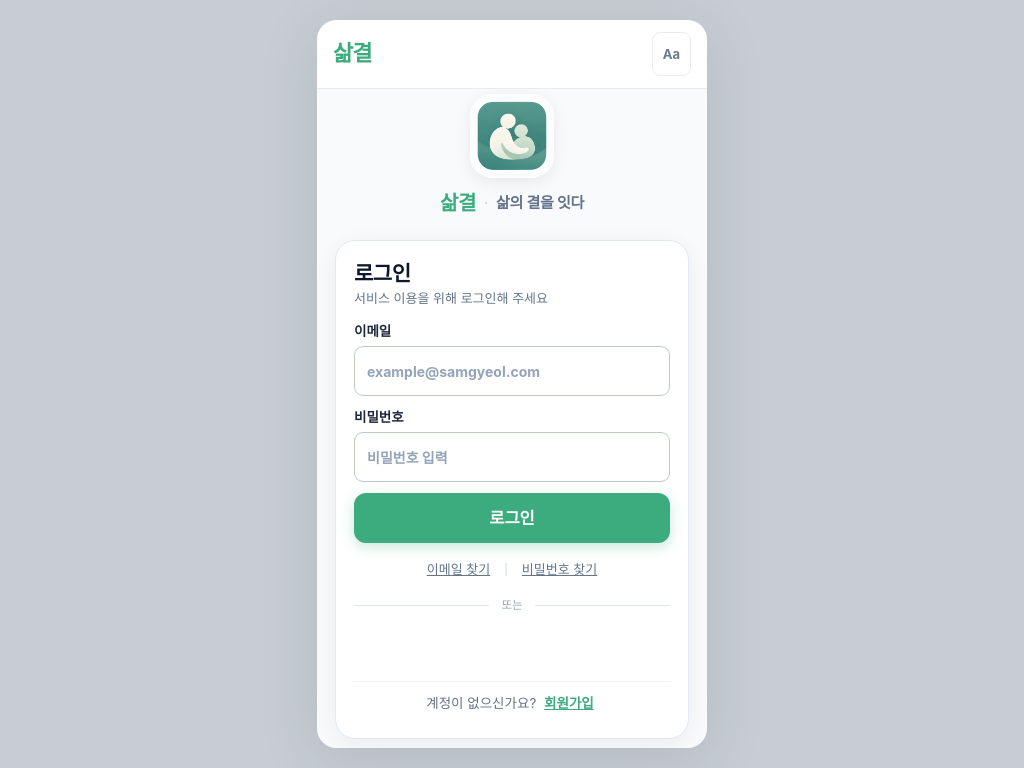
Test: 비밀번호 재설정 탭에서 정보를 입력하여 비밀번호를 재설정한다
Step 1. Click the button "비밀번호 찾기" → (560, 570), box [518,556,601,584]
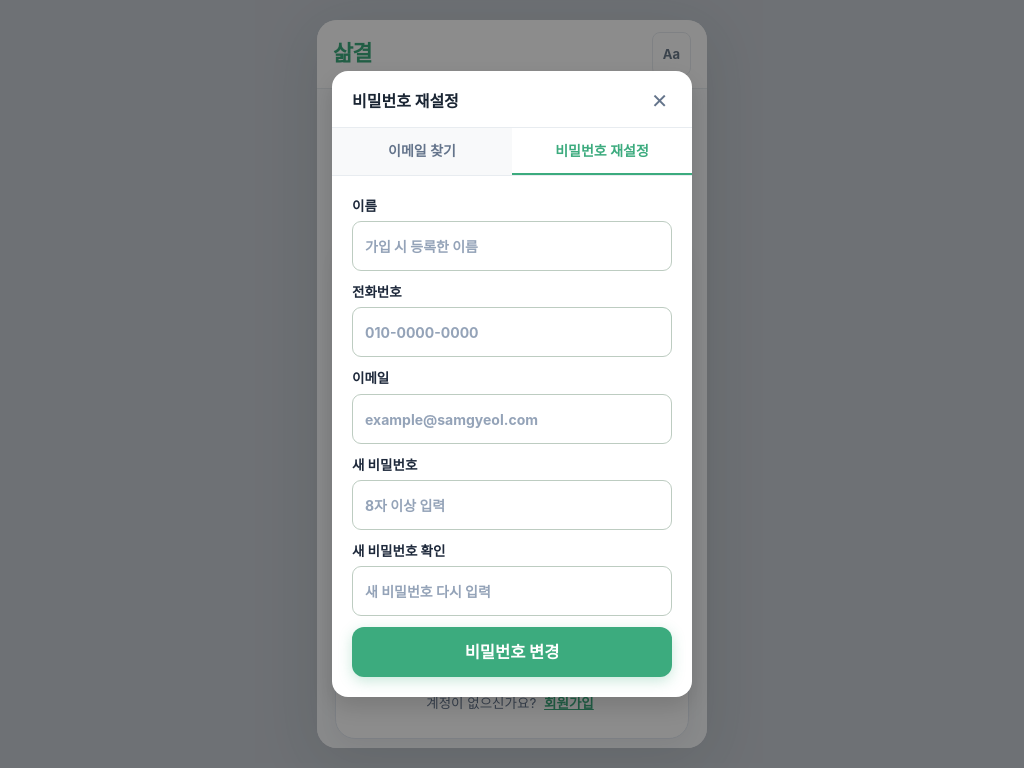
Expected: the dialog named "계정 찾기" is shown
Step 2. Type "홍길동" into the field with placeholder "가입 시 등록한 이름" → (512, 246), box [352,221,672,271]
Step 3. Type "010-1234-5678" into the field with placeholder "010-0000-0000" → (512, 332), box [352,307,672,357]
Step 4. Type "hong@example.com" into the field with placeholder "example@samgyeol.com" → (512, 419), box [352,394,672,444]
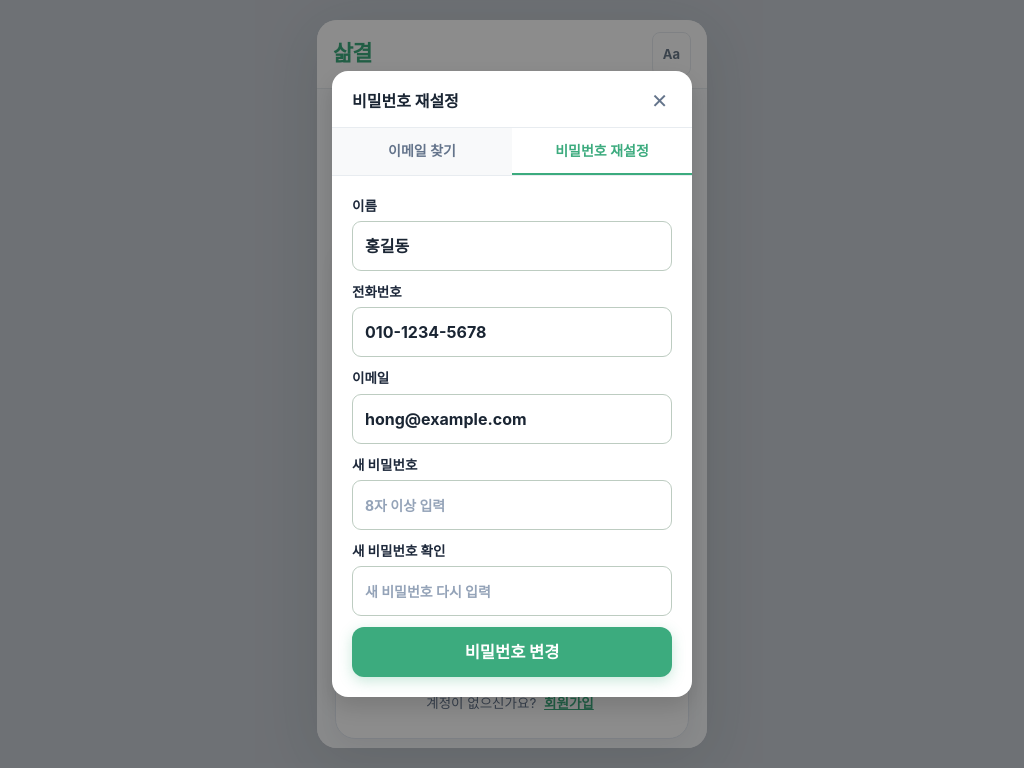
Step 5. Type "newPassword123" into the password field with placeholder "8자 이상 입력" → (512, 505), box [352,480,672,530]
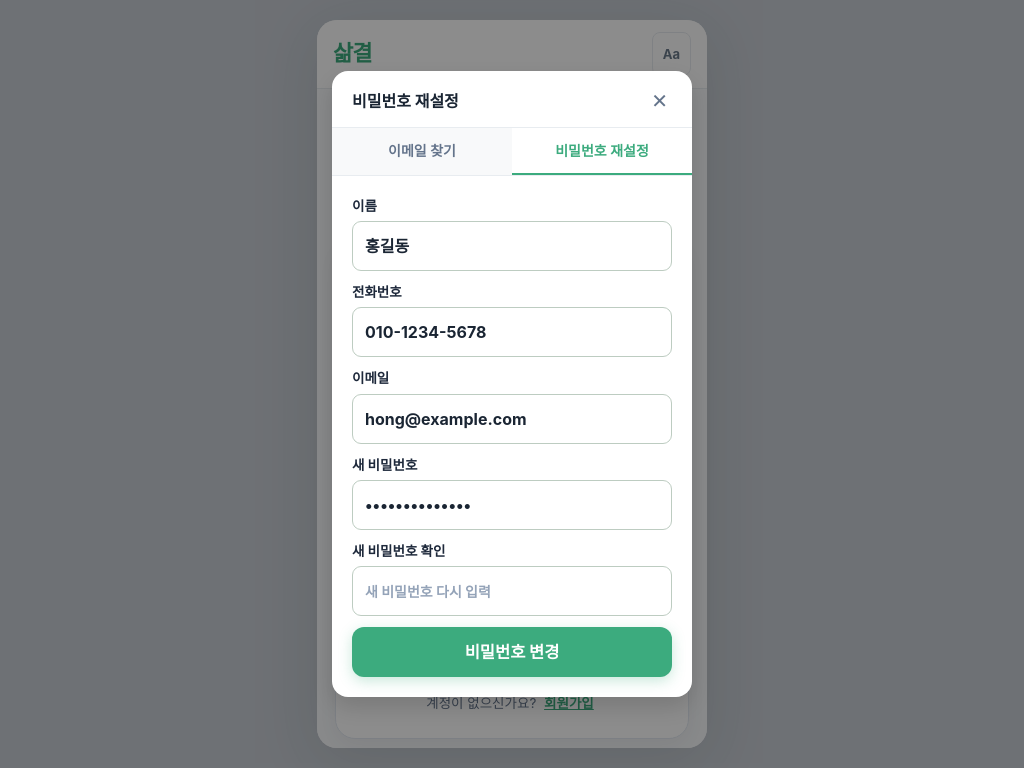
Step 6. Type "newPassword123" into the password field with placeholder "새 비밀번호 다시 입력" → (512, 591), box [352,566,672,616]
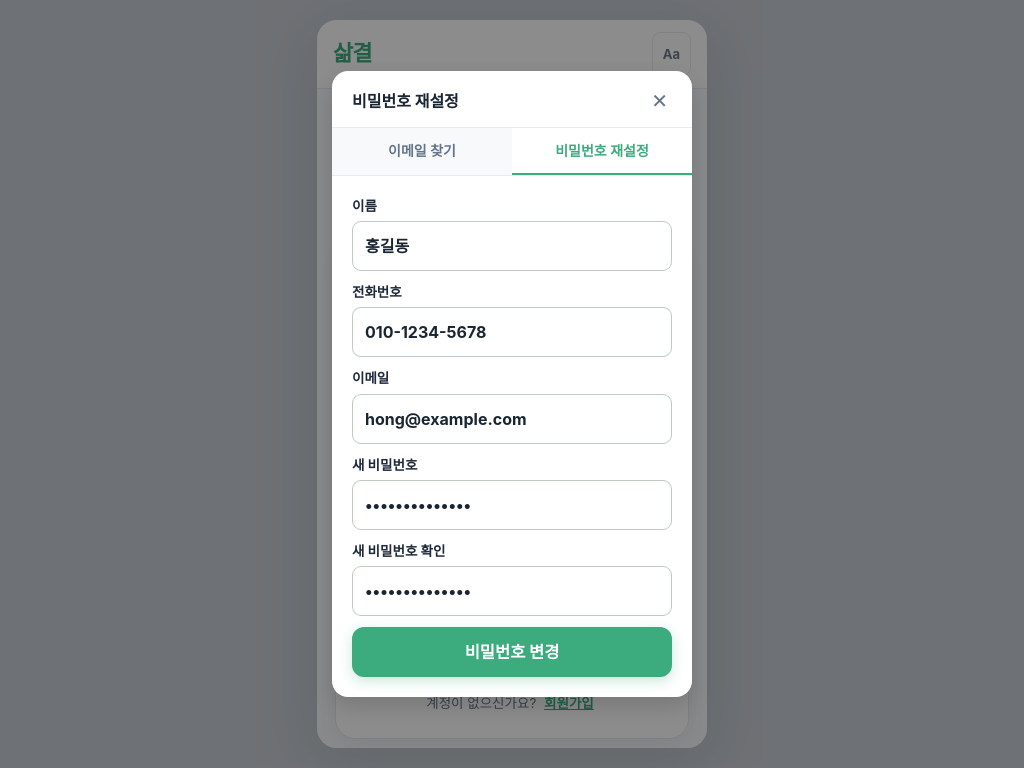
Step 7. Click the button "비밀번호 변경" → (512, 652), box [352,627,672,677]
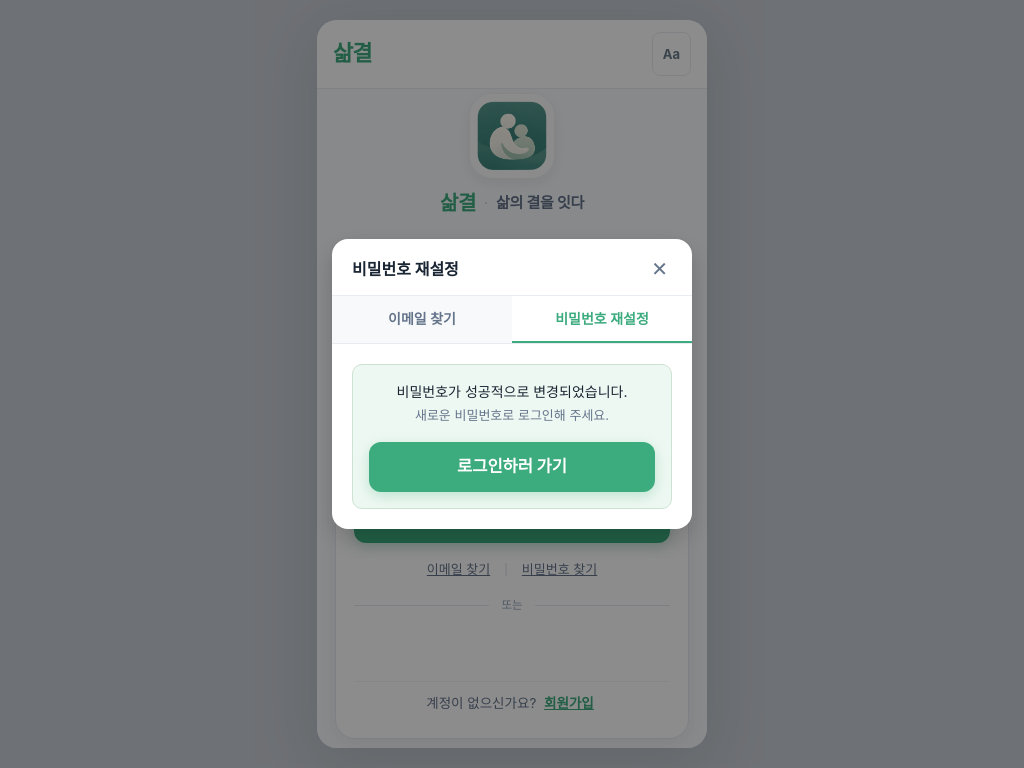
Expected: the text "비밀번호가 성공적으로 변경되었습니다." is shown, [397,383,628,400]
Step 8. Click the button "로그인하러 가기" → (512, 467), box [369,442,655,492]
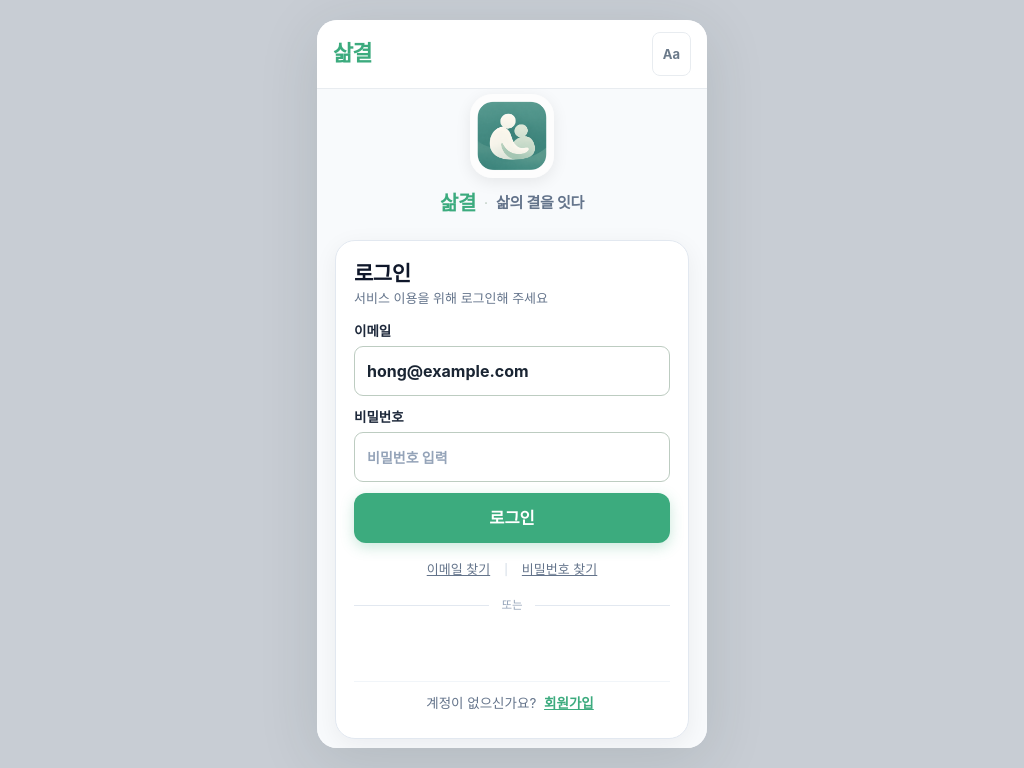
Expected: the dialog is gone
Expected: the field labelled "이메일" holds "hong@example.com", [354,346,670,396]
